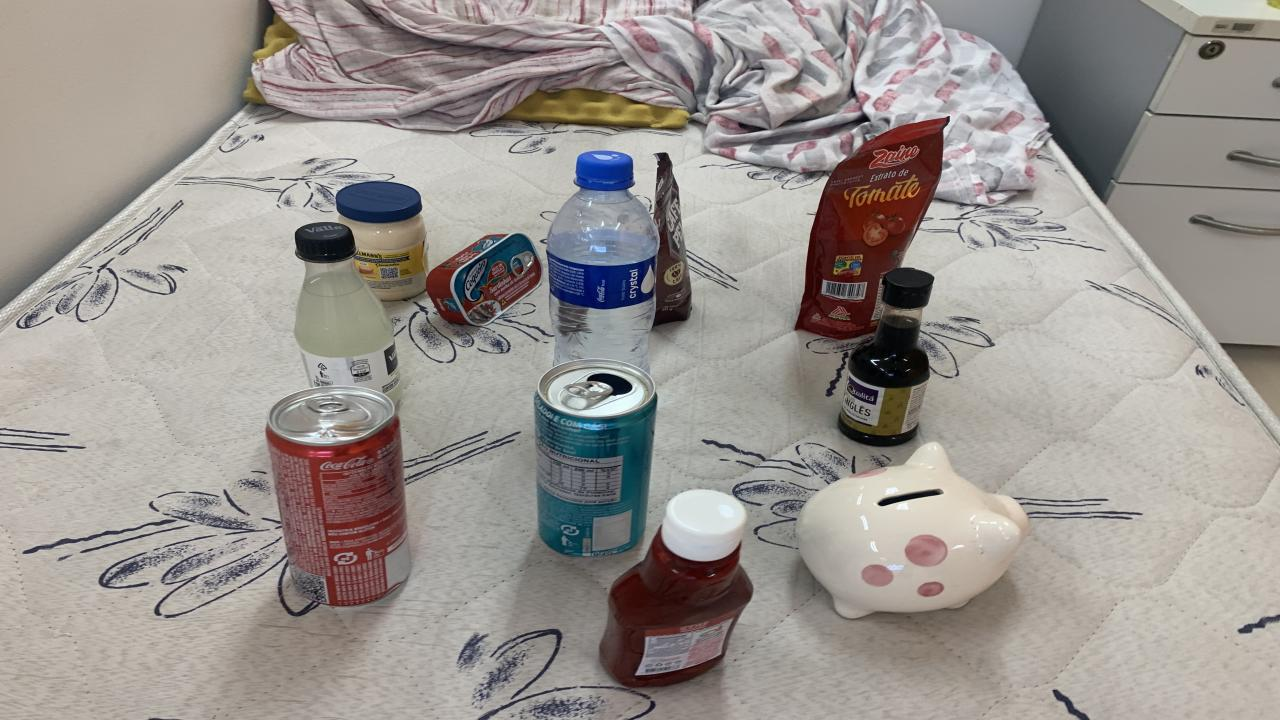Coffee-Pantry_Items: (652, 152, 692, 324)
Coke-Drinks: (265, 386, 410, 608)
English_Sauce-Pantry_Items: (838, 268, 932, 446)
Mayonnaise-Pantry_Items: (335, 182, 428, 300)
Pig_Safe-Miscellaneous: (795, 442, 1030, 619)
Soda-Drinks: (295, 223, 402, 403)
Tea-Drinks: (535, 358, 658, 557)
Tomato_Sauce-Pantry_Items: (795, 118, 948, 338), (600, 489, 752, 686)
Tuna_Can-Pantry_Items: (425, 232, 542, 326)
Water_Bottle-Drinks: (548, 152, 660, 371)
